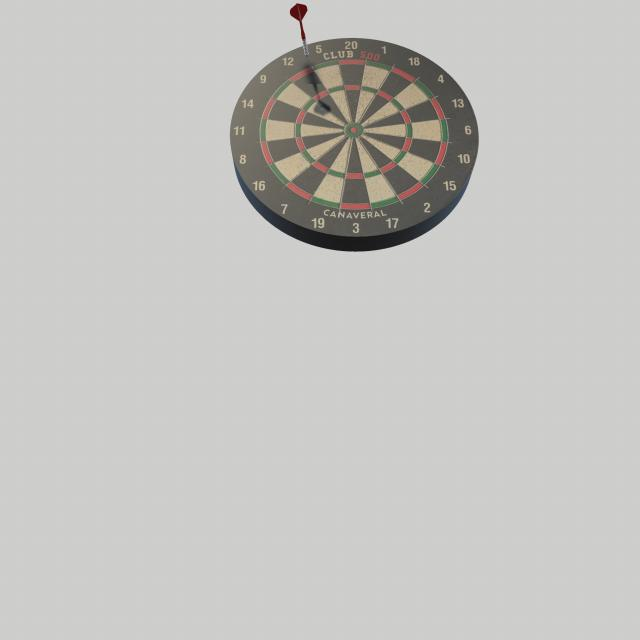metal: (302, 38, 309, 63)
plastic: (290, 3, 307, 40)
